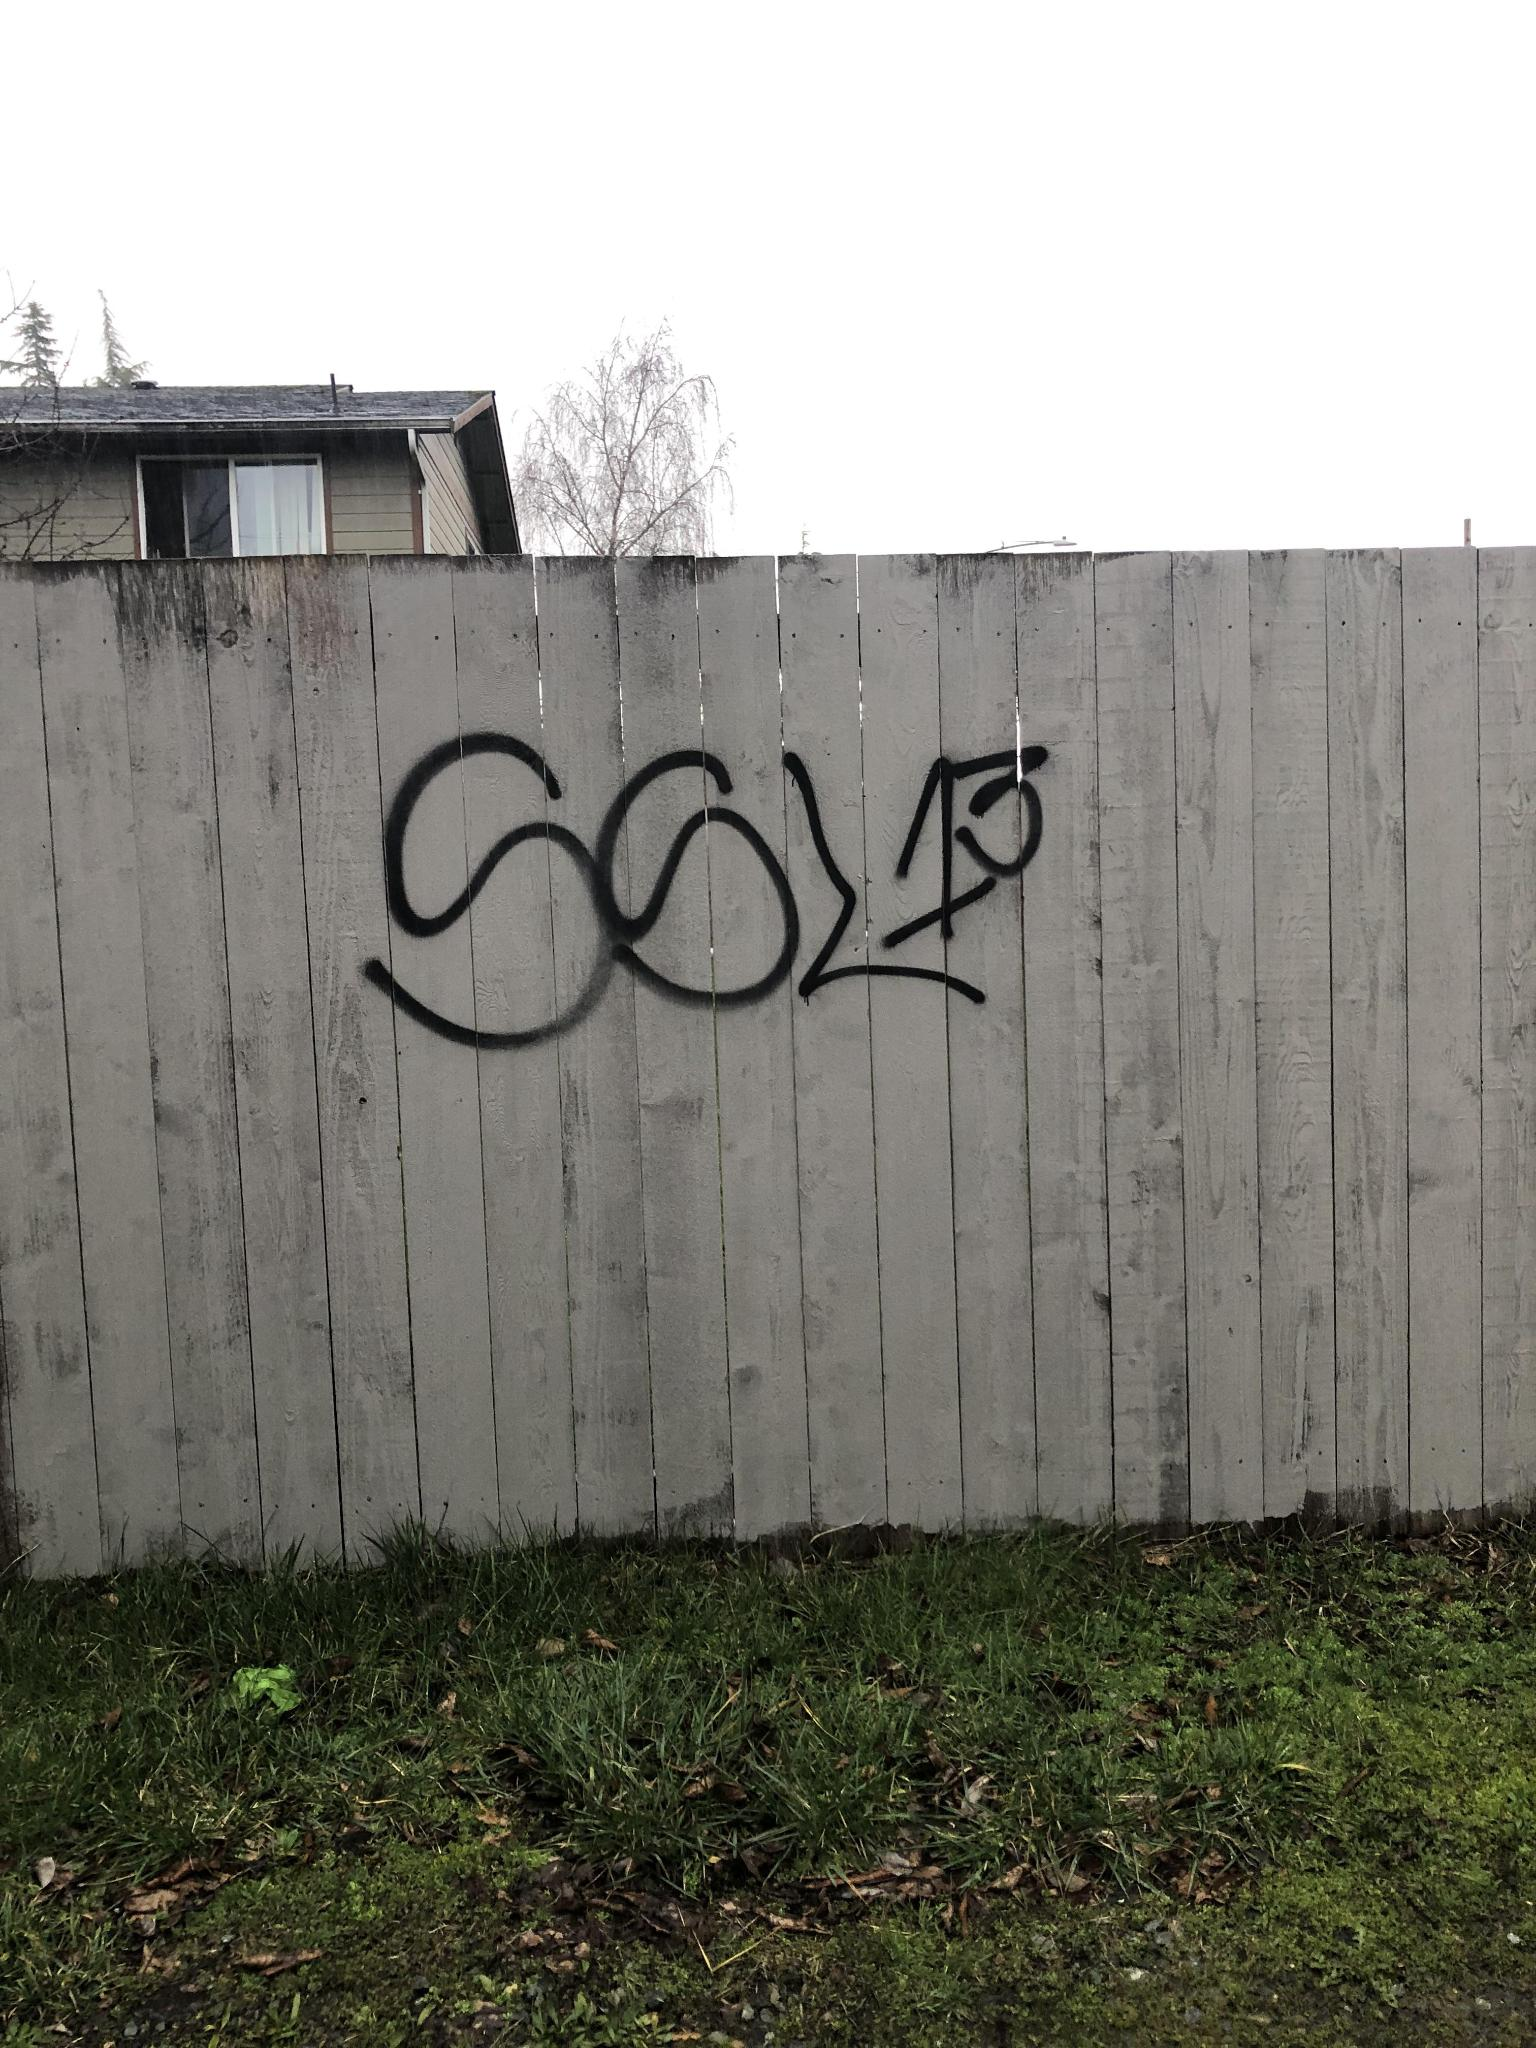graffiti: (339, 719, 1071, 1048)
